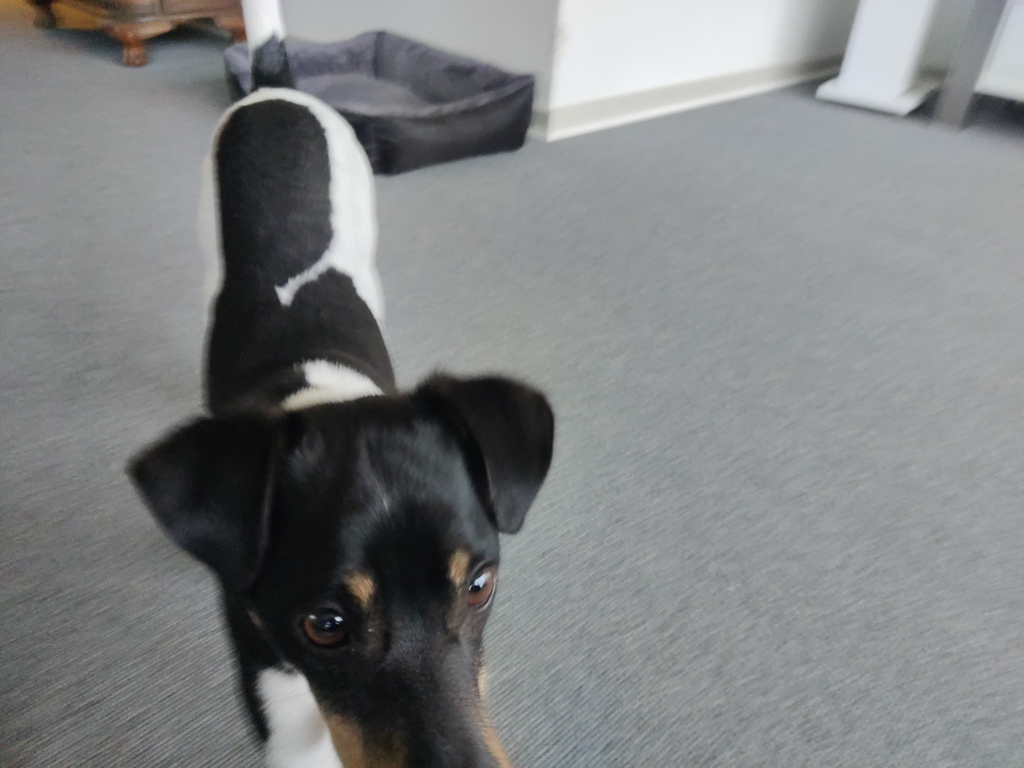Dog: (120, 0, 559, 768)
